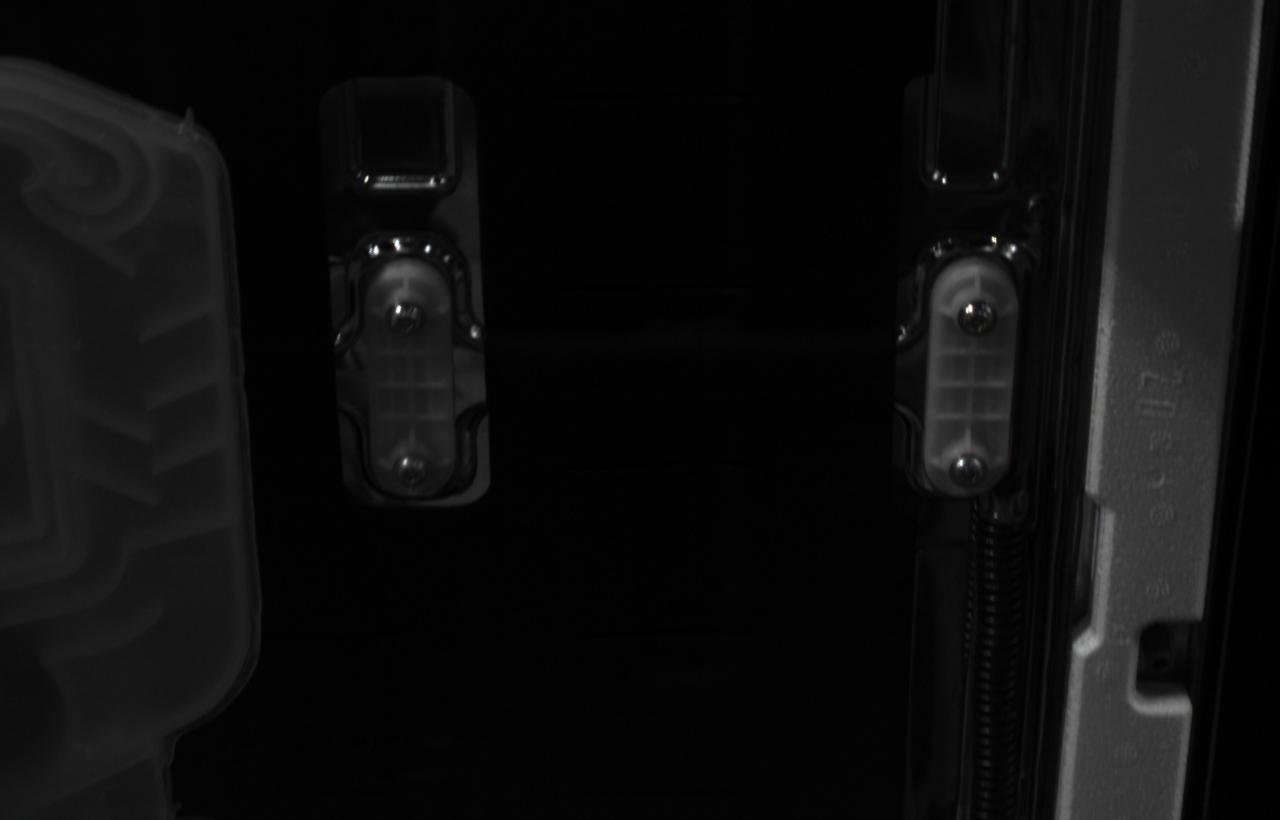vida-ok: (957, 298, 998, 340), (949, 454, 991, 491), (386, 301, 426, 339), (393, 452, 431, 489)
